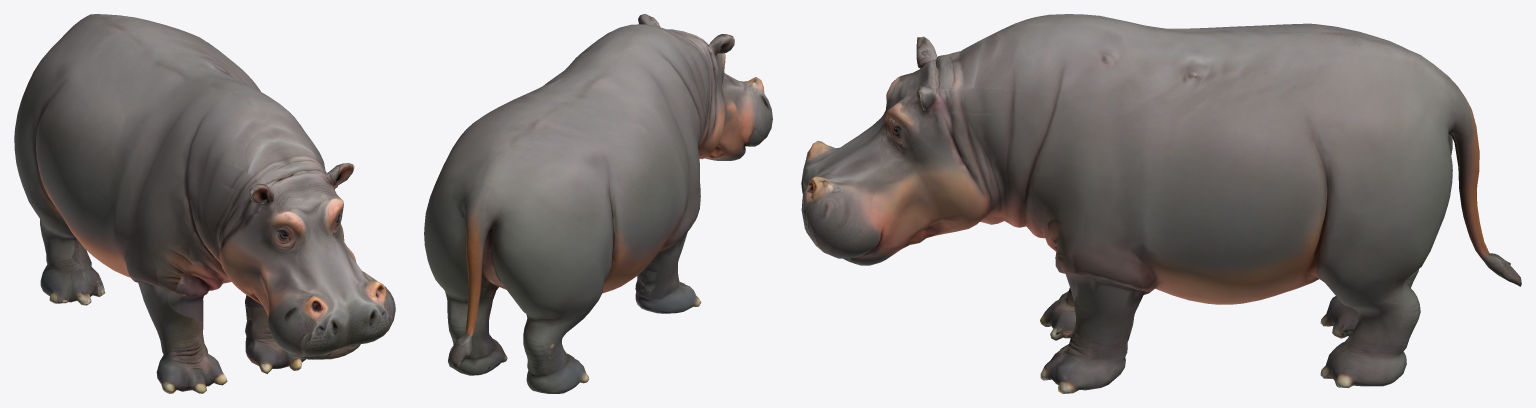
Rendered from hippo.glb.
3 renders of one model, left to right at view 1: azimuth 30°, elevation 25°; view 2: azimuth 150°, elevation 25°; view 3: azimuth 270°, elevation 25°, orthographic. The views are drawn at different scales.
Bounding box in the file's own units: 0.7732 × 1.02 × 2.
1 material, 1 textured.
